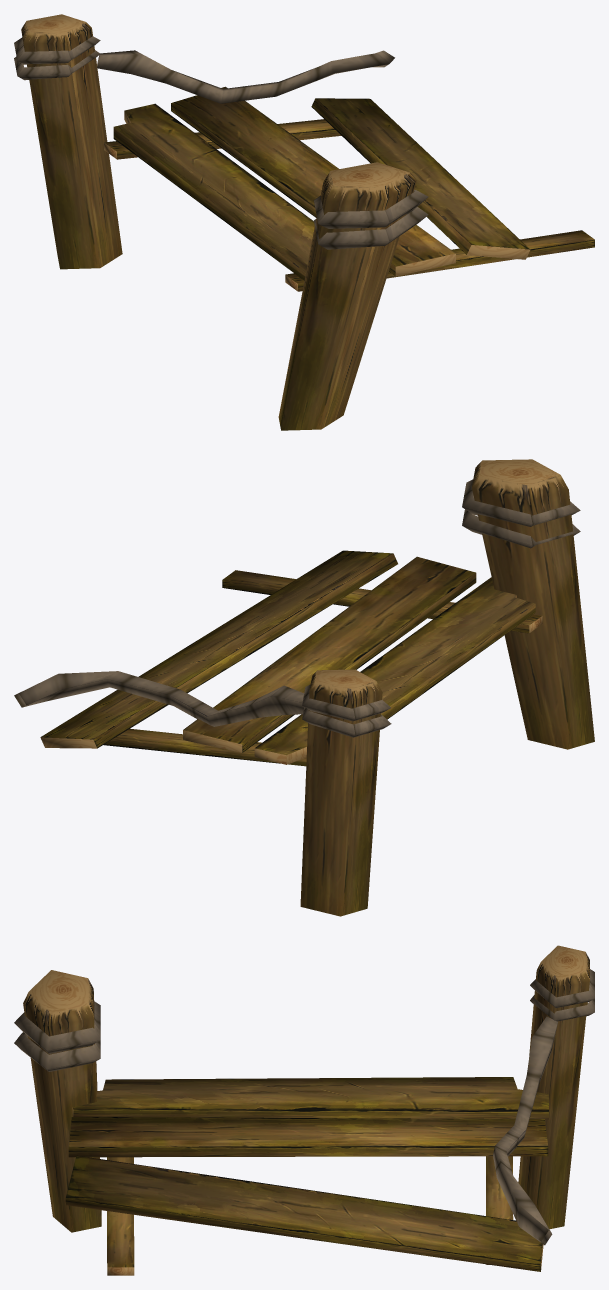
Rendered from bridge_01.fbx.
The picture shows the model from 3 angles, top to bottom: view 1: azimuth 30°, elevation 25°; view 2: azimuth 150°, elevation 25°; view 3: azimuth 270°, elevation 25°; orthographic projection. The views are drawn at different scales.
Parts seen in each view (by area): view 1: Broken_Bridge_02; view 2: Broken_Bridge_02; view 3: Broken_Bridge_02.
Boxes of the visible parts, left/top/right/bottom form: Broken_Bridge_02: left=14, top=14, right=594, bottom=430; Broken_Bridge_02: left=14, top=459, right=594, bottom=916; Broken_Bridge_02: left=14, top=945, right=594, bottom=1275.
Bounding box in the file's own units: 5 × 3.09 × 6.45.
